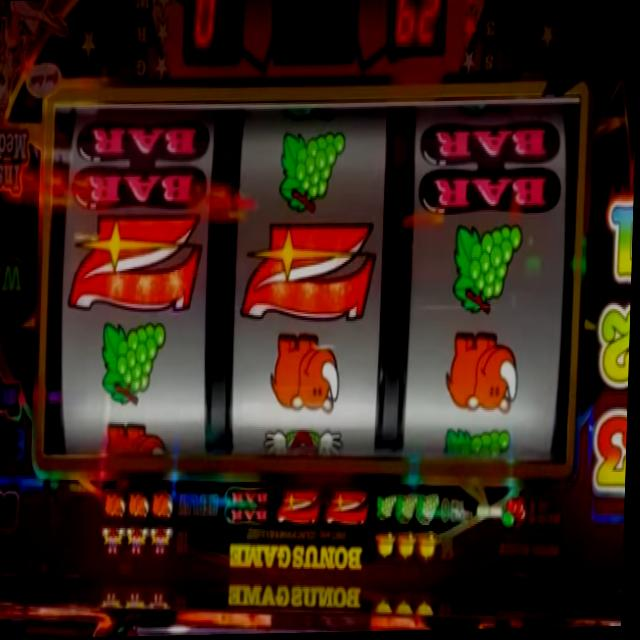bar: (418, 119, 565, 219), (69, 113, 209, 213), (227, 482, 273, 526)
bell: (418, 532, 441, 566), (398, 527, 419, 563), (375, 528, 398, 560)
cherry: (503, 493, 530, 534)
clown: (263, 424, 350, 463), (150, 523, 177, 557), (103, 521, 128, 557), (128, 524, 152, 556)
display: (41, 89, 580, 483)
elephant: (444, 331, 522, 418), (269, 332, 343, 421), (104, 420, 171, 458), (153, 492, 178, 519), (105, 490, 129, 517), (130, 489, 153, 517)
grape: (451, 224, 524, 319), (100, 316, 168, 409), (276, 129, 346, 216), (443, 426, 516, 463), (419, 491, 444, 527), (399, 491, 421, 528), (380, 489, 399, 526)
z: (67, 208, 203, 316), (242, 220, 375, 327), (277, 482, 322, 525), (328, 486, 372, 527)
